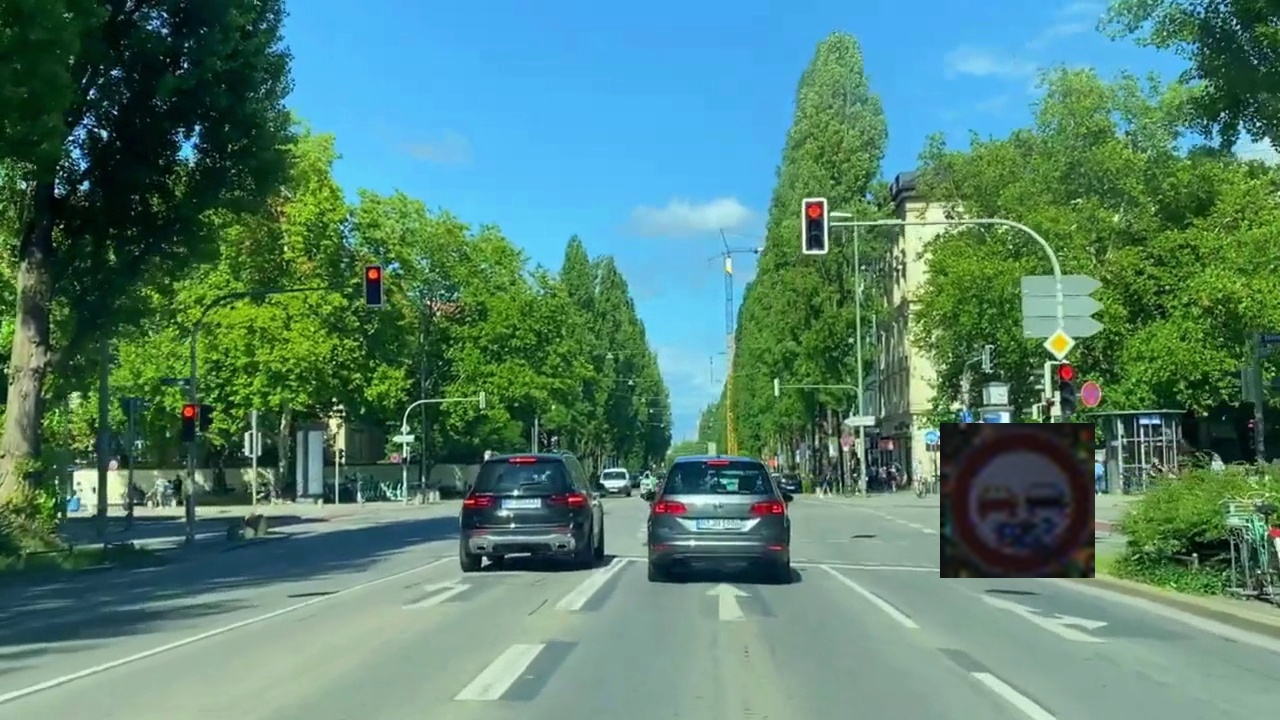No passing: (940, 423, 1095, 578)
